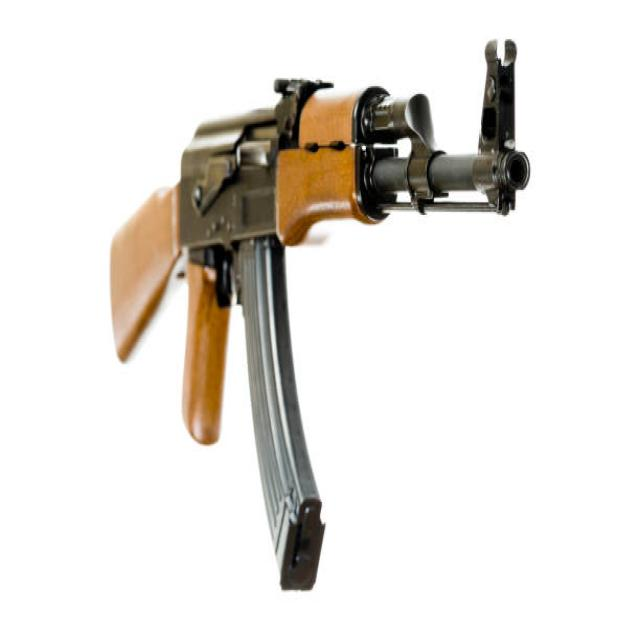rifle: (104, 20, 541, 626)
